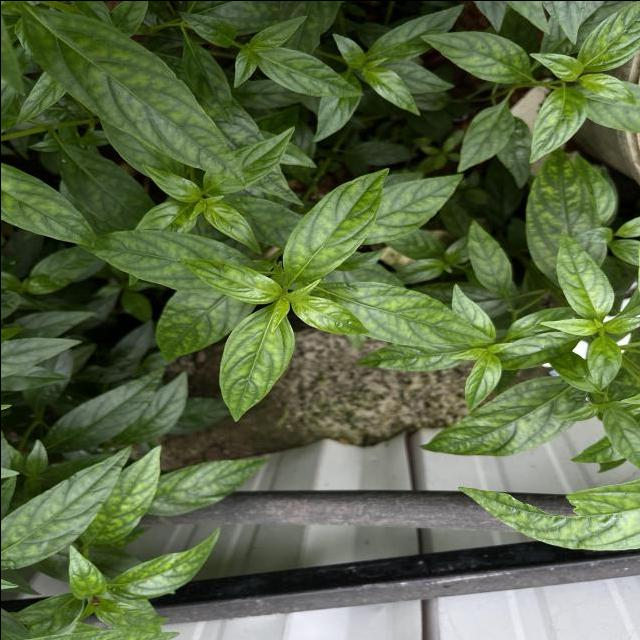Andrographis paniculata: (18, 2, 248, 188), (0, 443, 133, 570), (416, 372, 585, 457), (280, 165, 391, 286), (42, 365, 166, 452), (330, 280, 495, 344), (216, 303, 296, 423), (78, 442, 165, 548), (105, 525, 222, 601), (148, 453, 273, 518), (417, 29, 533, 84), (252, 44, 364, 99), (554, 228, 615, 320), (172, 254, 284, 304), (528, 84, 588, 164), (456, 100, 516, 174), (466, 218, 514, 301), (364, 65, 422, 116), (66, 544, 106, 600)
